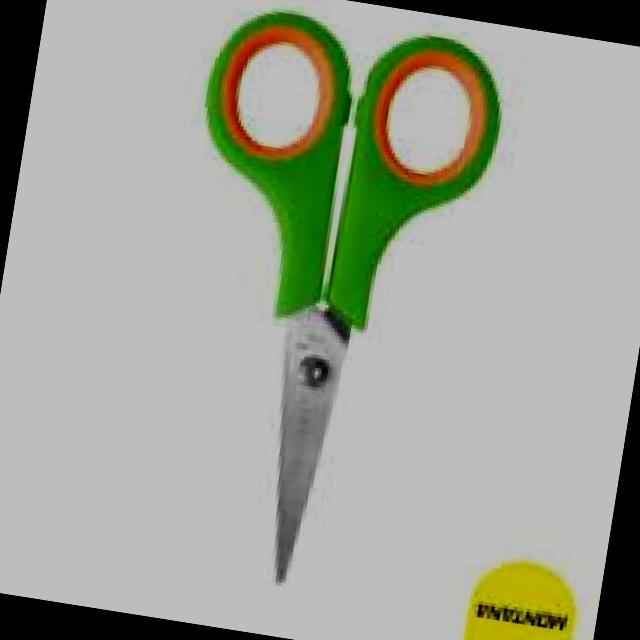Scissors: (124, 0, 527, 631)
